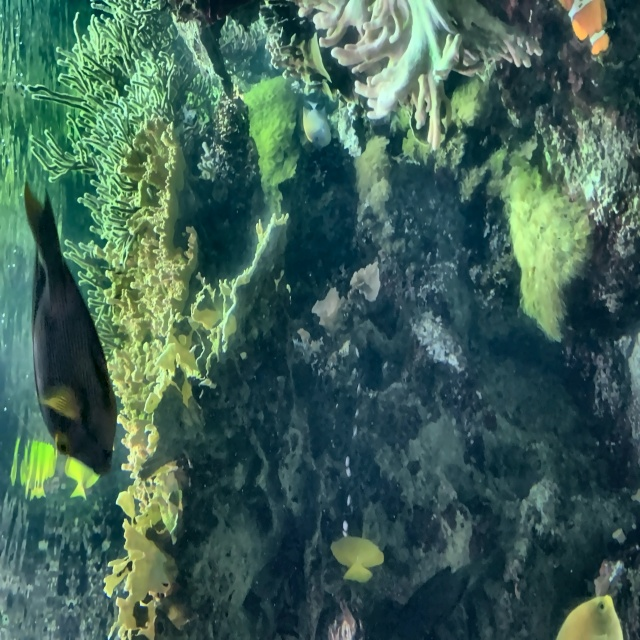fish: (18, 182, 119, 479), (556, 591, 625, 639), (558, 0, 612, 57), (330, 535, 384, 584), (64, 443, 106, 499), (301, 98, 335, 152)
